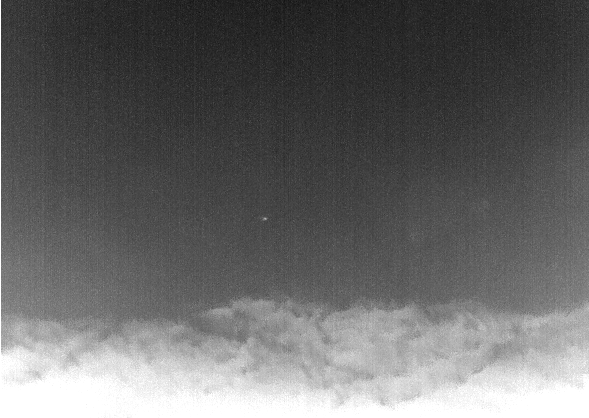dim target: (262, 216, 268, 222)
